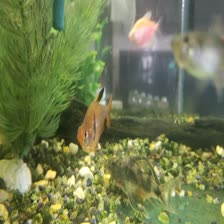Guppy: (167, 26, 223, 104)
Kiros: (97, 153, 173, 213)
Plano: (125, 5, 167, 52)
Transparente: (70, 83, 120, 152)
